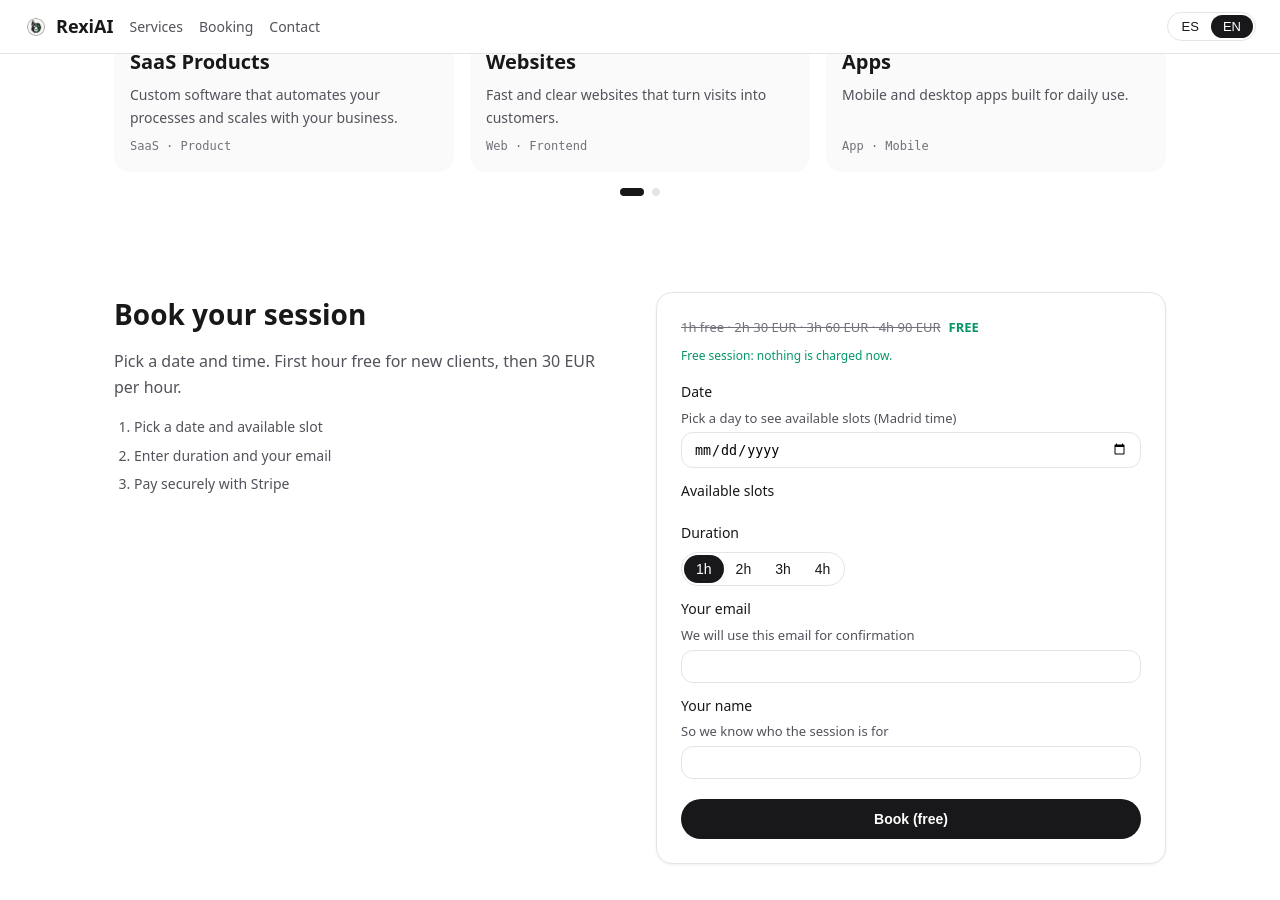
Test: AC-002-17: confirmation panel replaces the form (en) › AC-002-17: panel renders inline instead of the form with dictionary copy
The width and height of the screenshot is (1280, 900).
(page scrolled)
Type "2027-03-01" into the date field with id "booking-date" at (911, 450), box [681,432,1141,468]
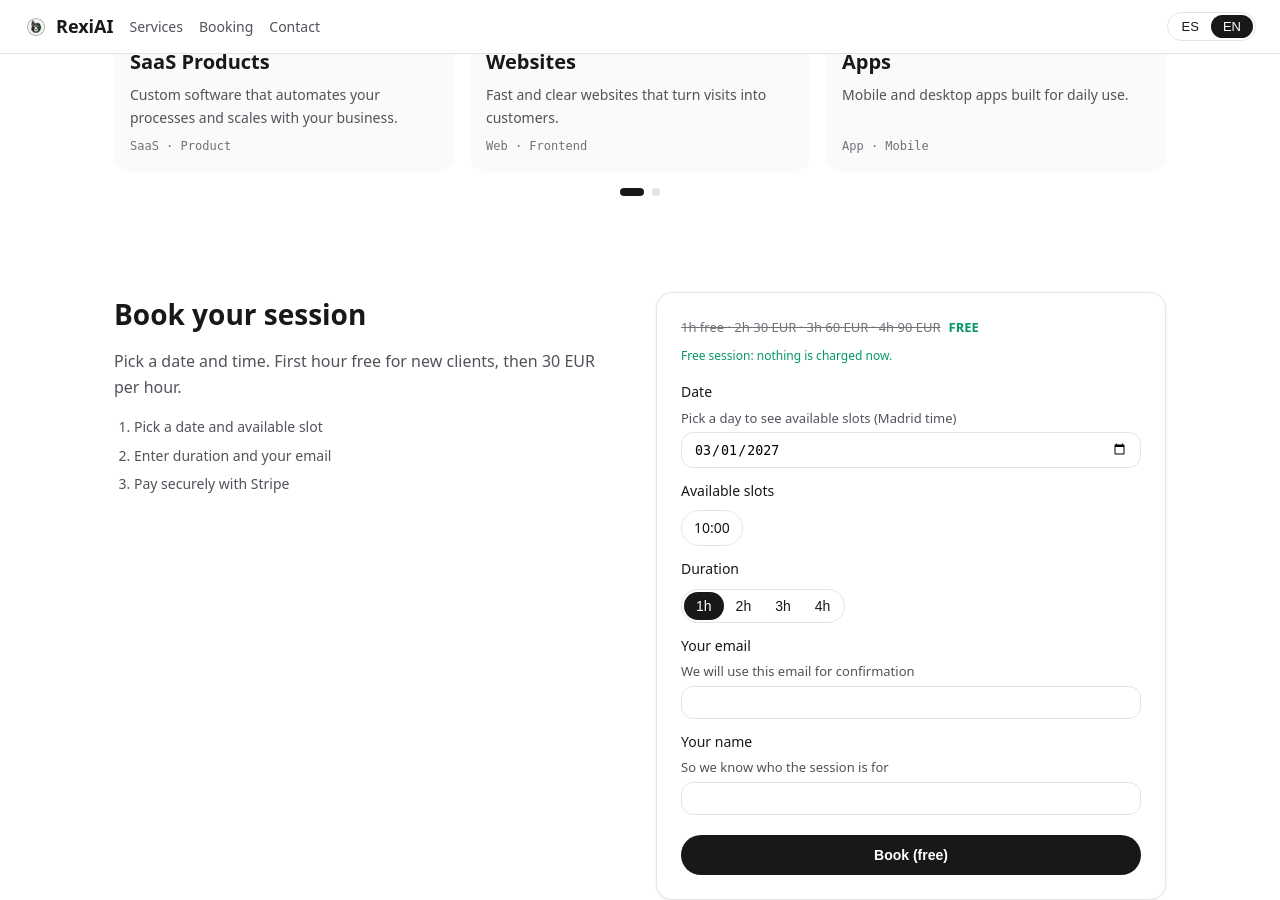
Result: the radio button "10:00" is shown
Click the radio button "10:00" at (712, 528), box [681,510,743,546]
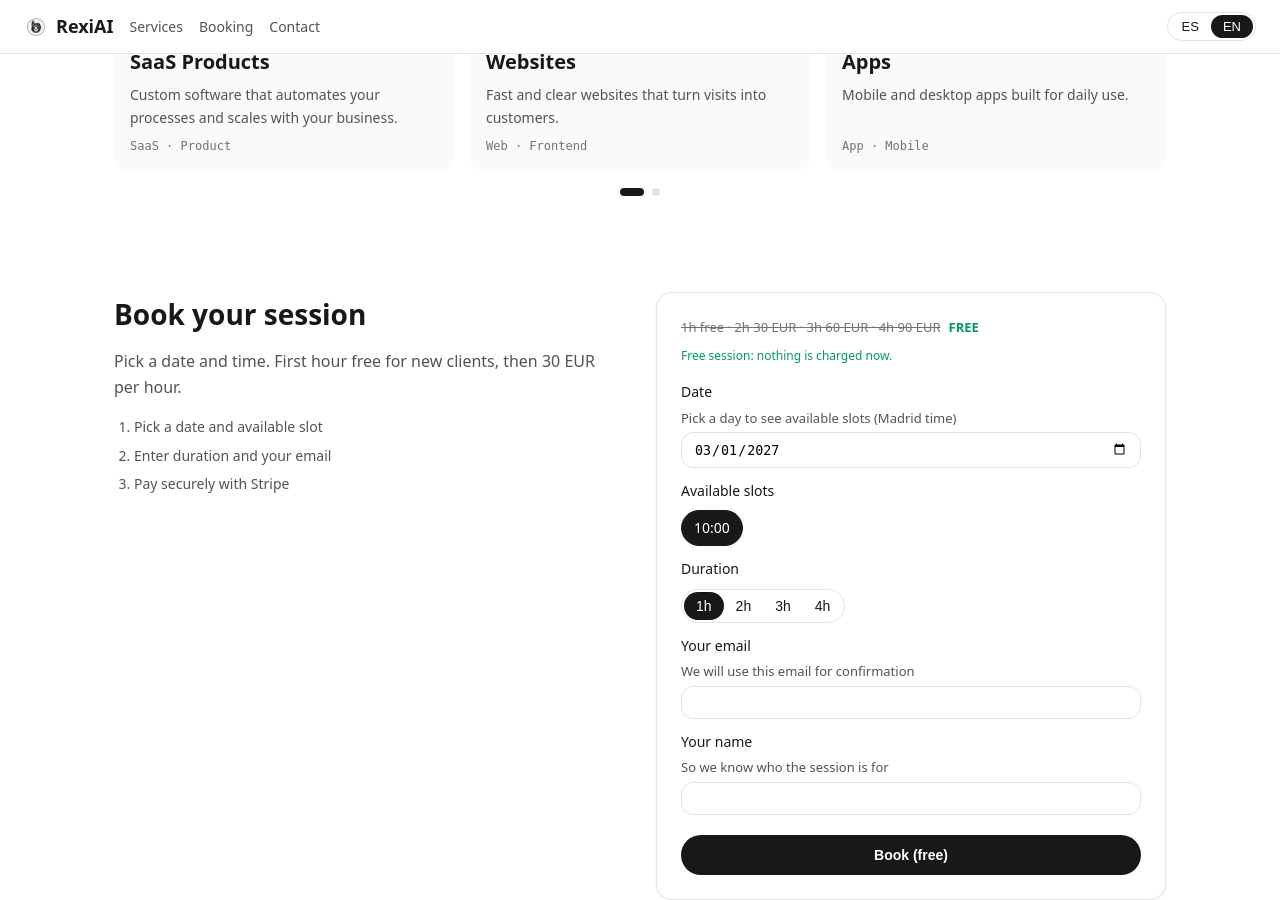
Type "test@example.com" into the field with id "booking-email" at (911, 702), box [681,686,1141,719]
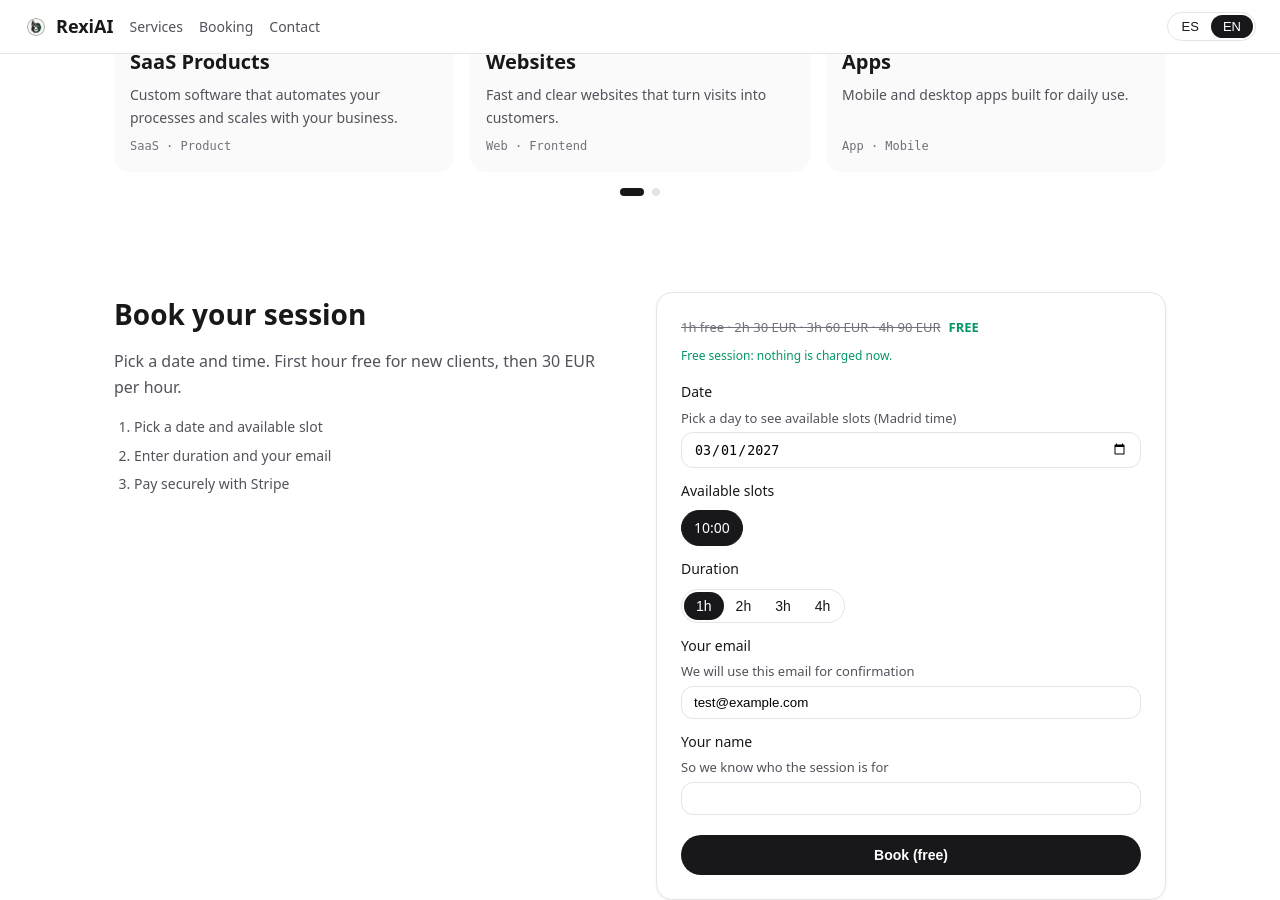
Type "Ana López" into the field with id "booking-name" at (911, 799), box [681,782,1141,815]
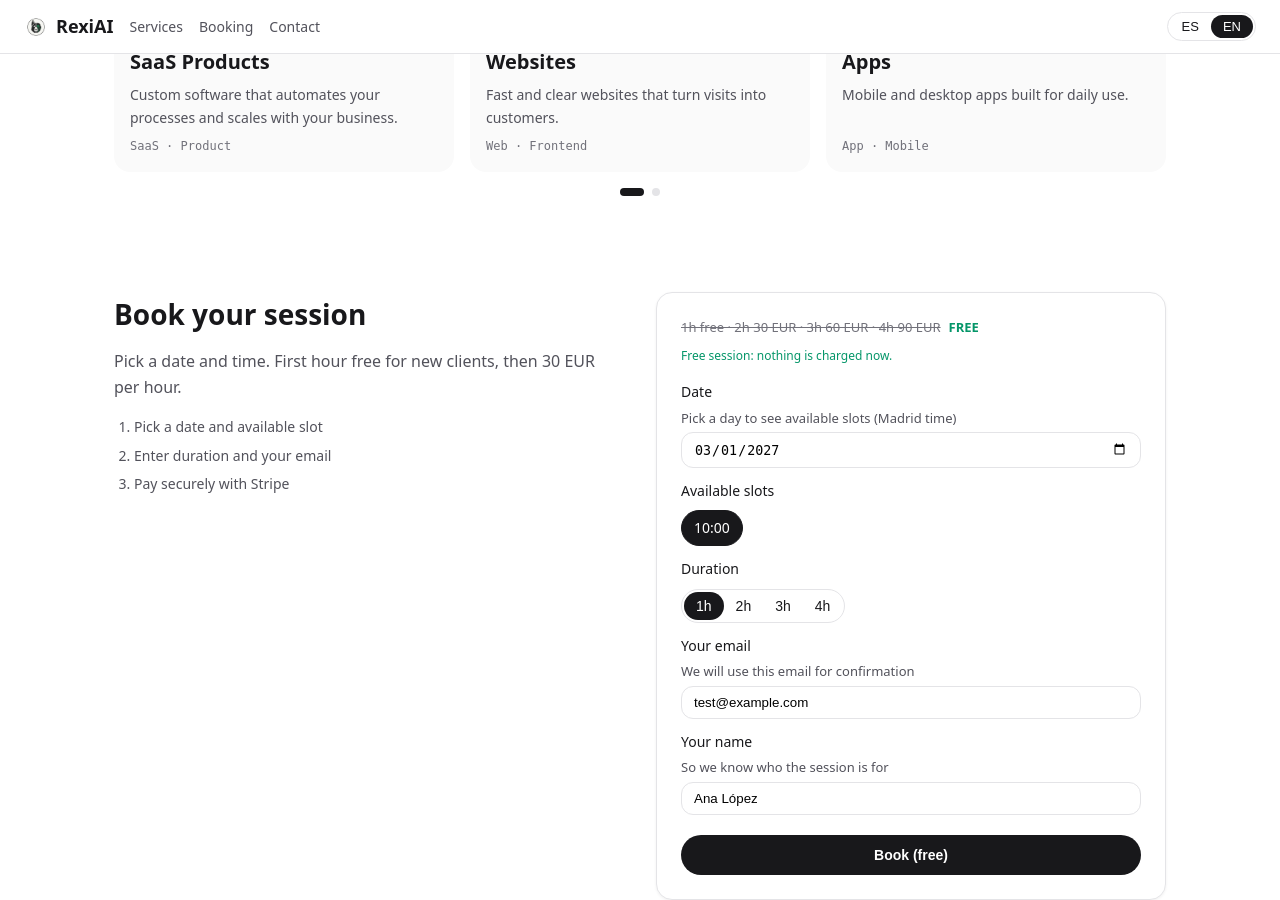
Click the button "Book (free)" at (911, 855), box [681,835,1141,875]
(page scrolled)
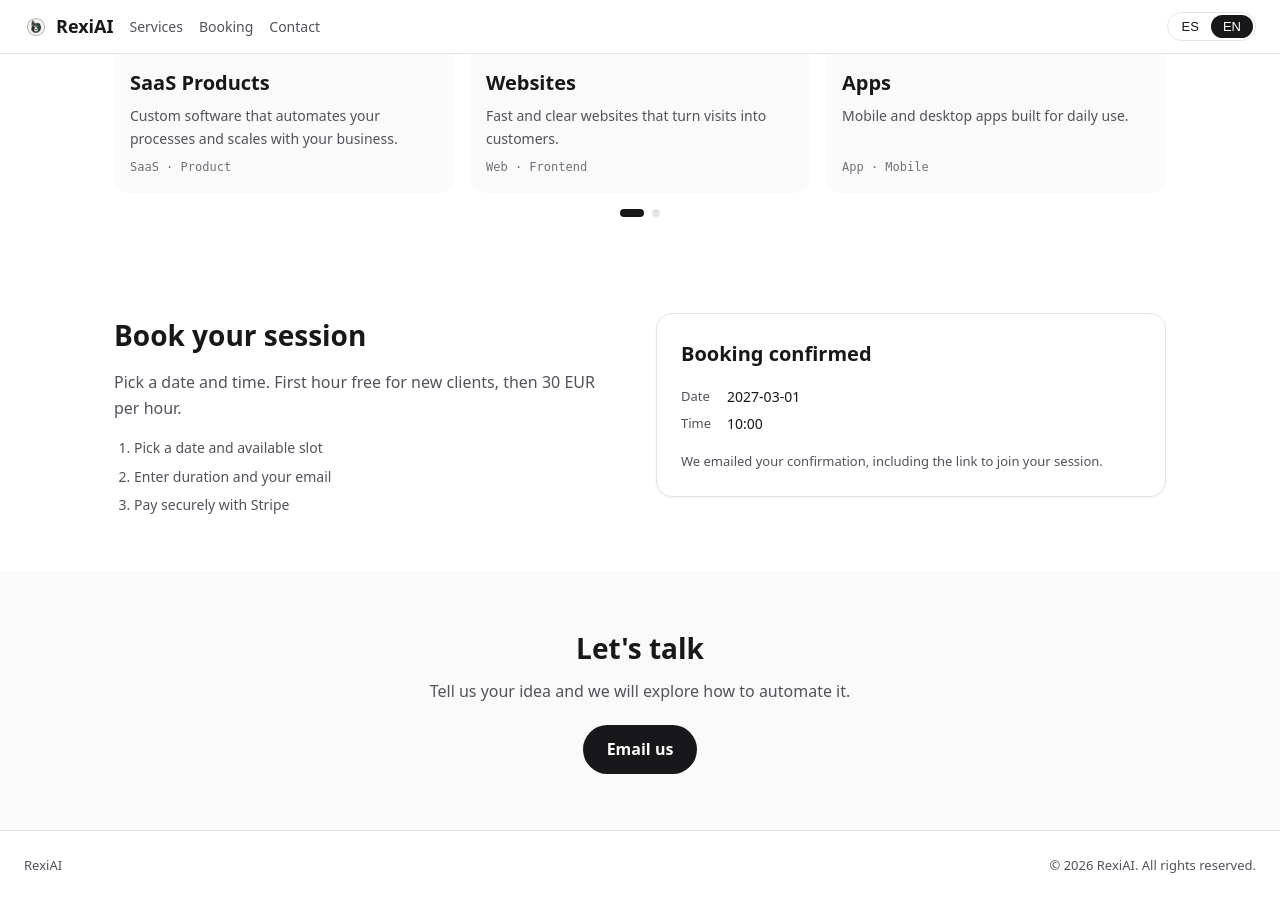
Result: the heading "Booking confirmed" is shown at [681,340,872,367]
Result: the message with class "booking-confirmation" is shown at [681,338,1141,472]
Result: the form is gone
